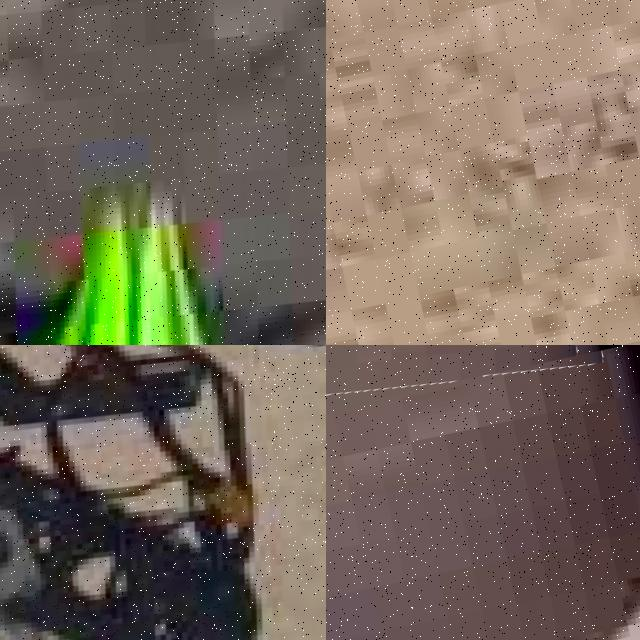drone: (0, 0, 326, 345), (0, 345, 326, 640), (326, 345, 624, 446)
